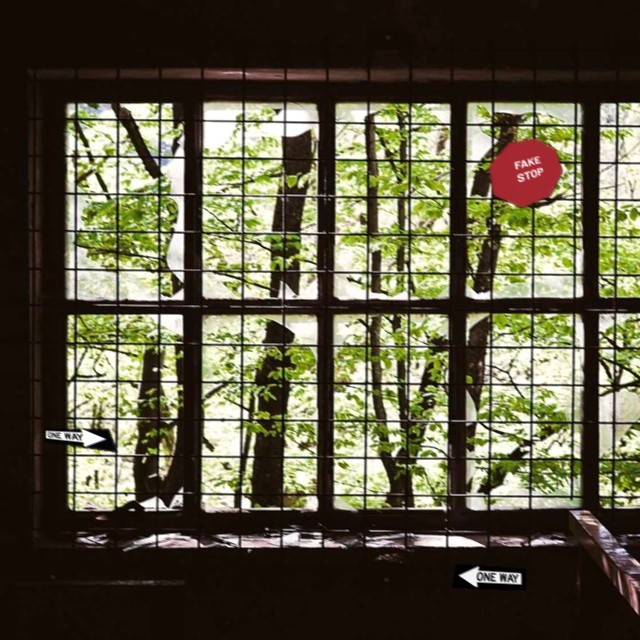FAKE_STOP: (487, 136, 562, 207)
ONE_WAY_ left: (450, 562, 525, 589)
ONE_WAY_ right: (42, 426, 117, 451)
